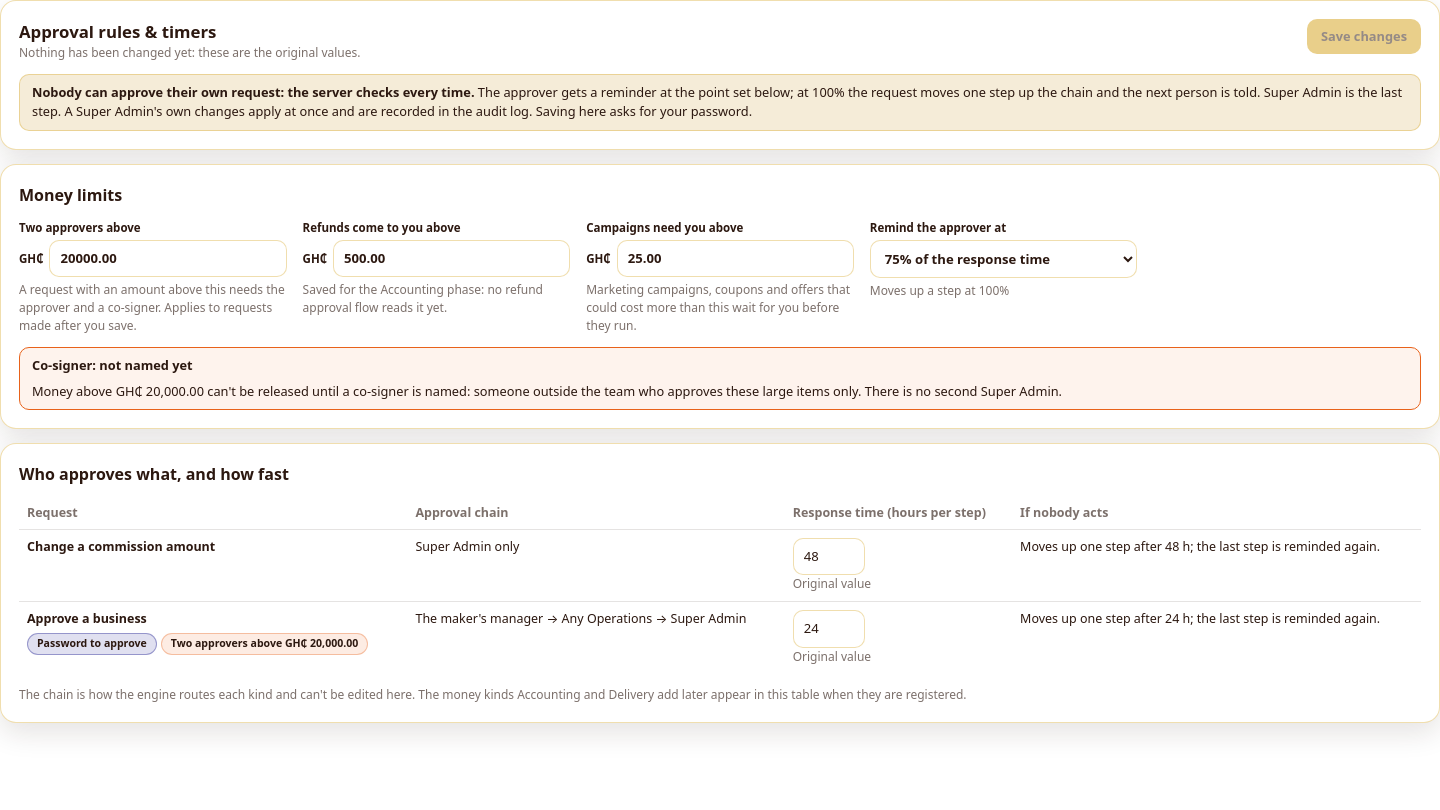
Test case: ApprovalRulesPanel › discard restores the saved values
The width and height of the screenshot is (1440, 810).
Replace the text in the field named "Two approvers above (GH₵)" with "99": point(168, 259) [50, 240, 287, 278]
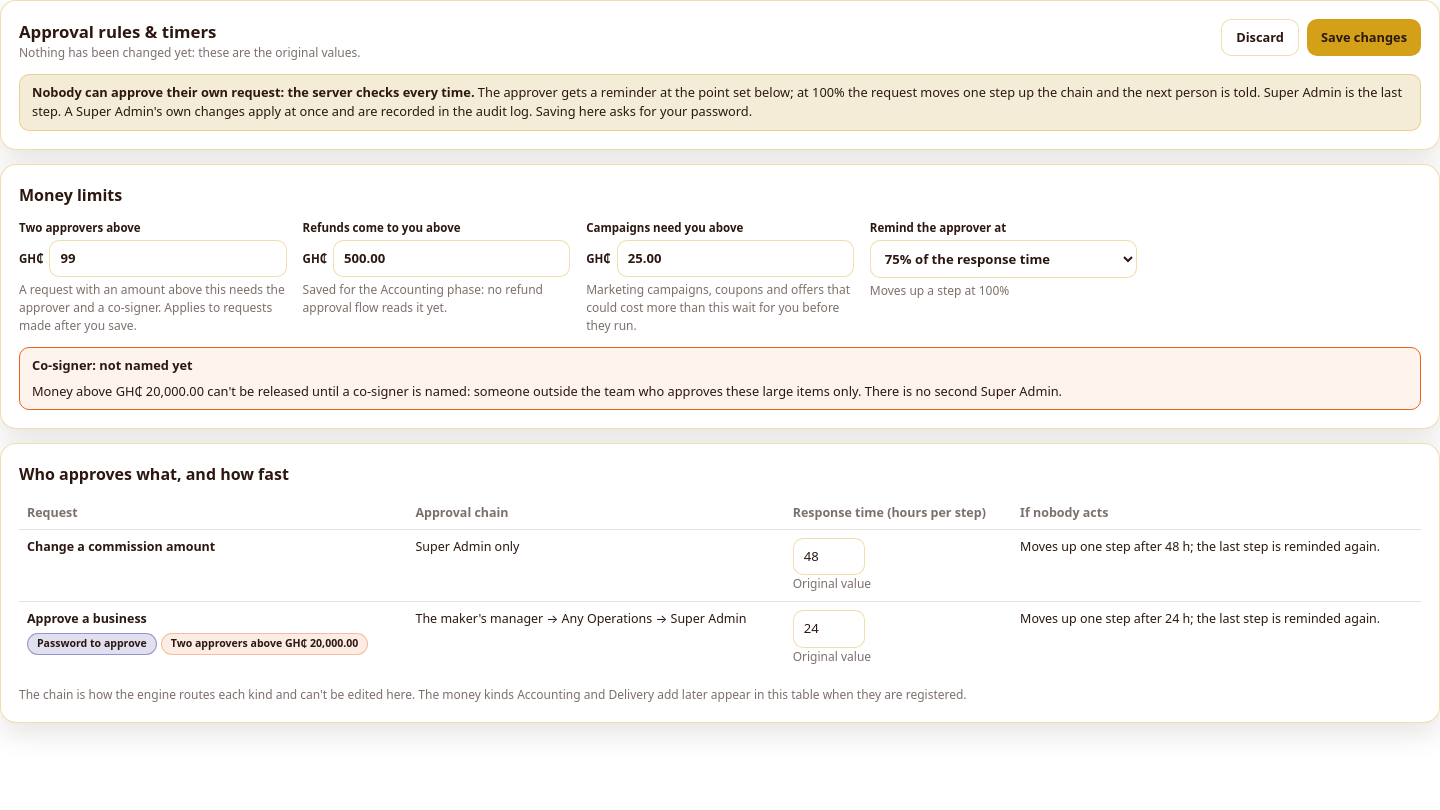
Click the button "Discard": point(1260, 38) [1221, 19, 1299, 56]
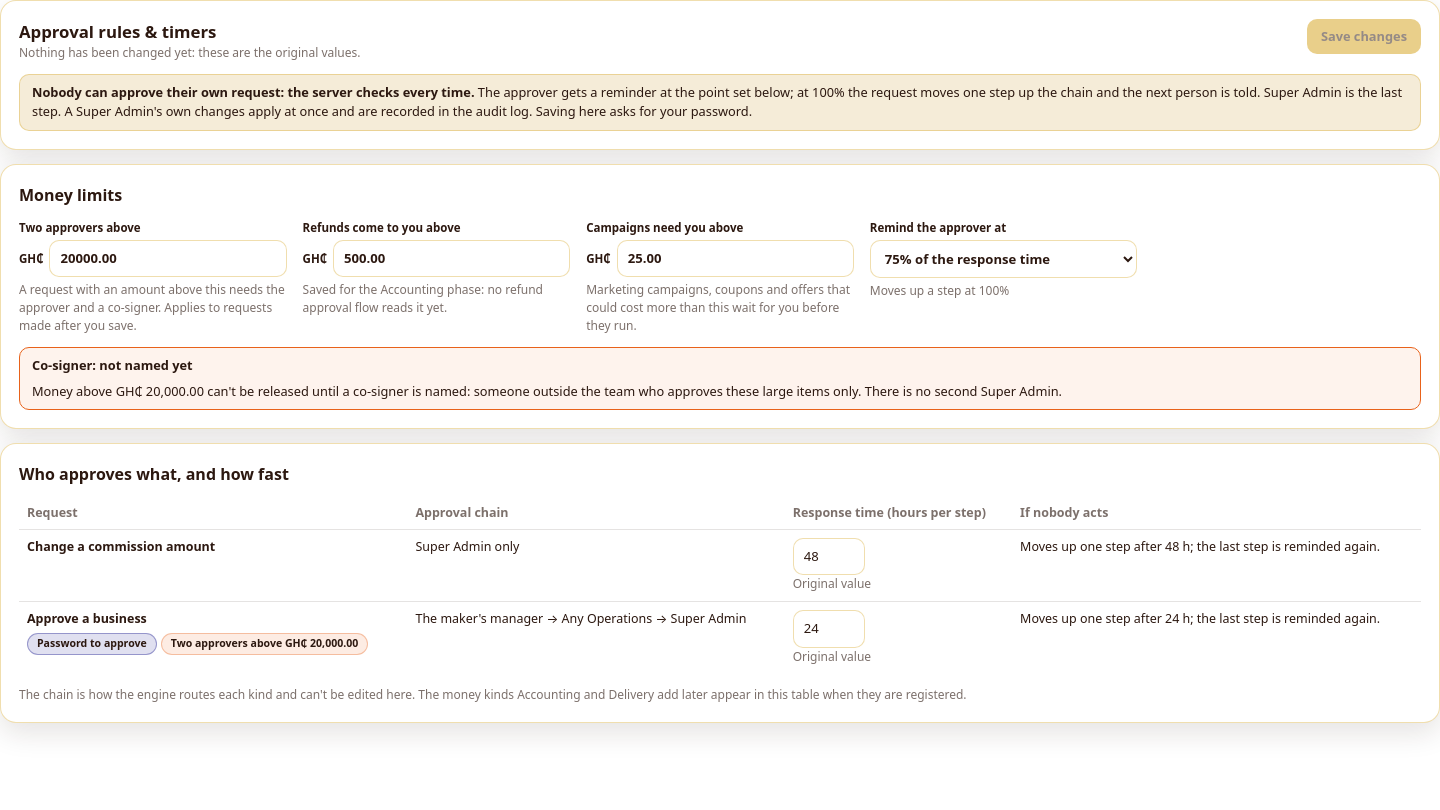
Now the field named "Two approvers above (GH₵)" holds "20000.00", box [50, 240, 287, 278]
